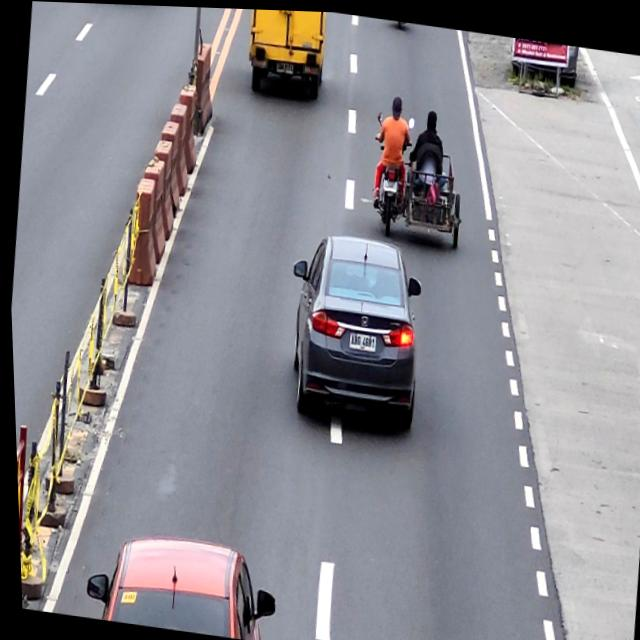Car: (274, 224, 427, 425), (75, 524, 276, 640)
License-Plate: (345, 327, 373, 351), (274, 58, 294, 73), (381, 176, 397, 189)
Tricycle: (365, 107, 471, 248)
Truck: (241, 7, 331, 98)
